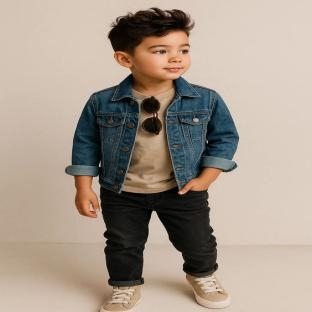Human: (65, 8, 238, 312)
